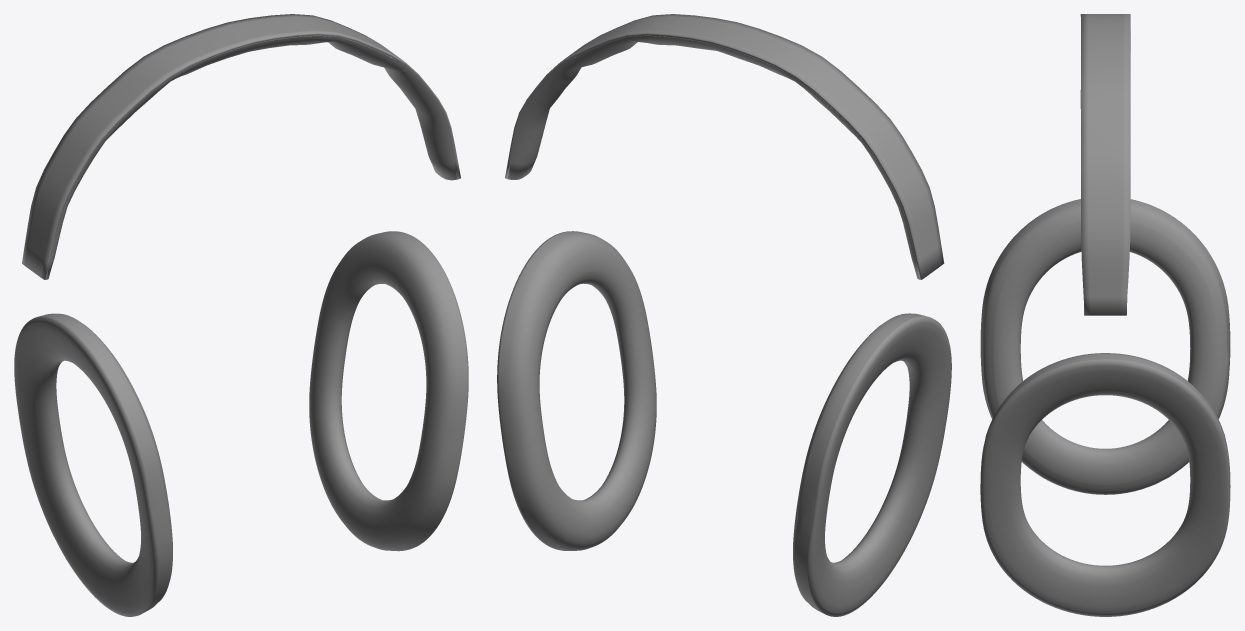
File: noiréOpenCups.glb
3 views of the same model, side by side, from view 1: azimuth 30°, elevation 25°; view 2: azimuth 150°, elevation 25°; view 3: azimuth 270°, elevation 25° (orthographic). The views are drawn at different scales.
Visible parts, largest first — view 1: Circle.027, Cube.008; view 2: Circle.027, Cube.008; view 3: Circle.027, Cube.008.
Boxes of the visible parts, bbox=[...] form: Circle.027: bbox=[14, 231, 468, 616]; Cube.008: bbox=[22, 14, 460, 279]; Circle.027: bbox=[497, 231, 951, 616]; Cube.008: bbox=[505, 14, 944, 279]; Circle.027: bbox=[980, 199, 1230, 616]; Cube.008: bbox=[1080, 14, 1130, 315].
Bounding box in the file's own units: 3.55 × 4.42 × 1.95.
Materials: 2 (2 with a texture image).
